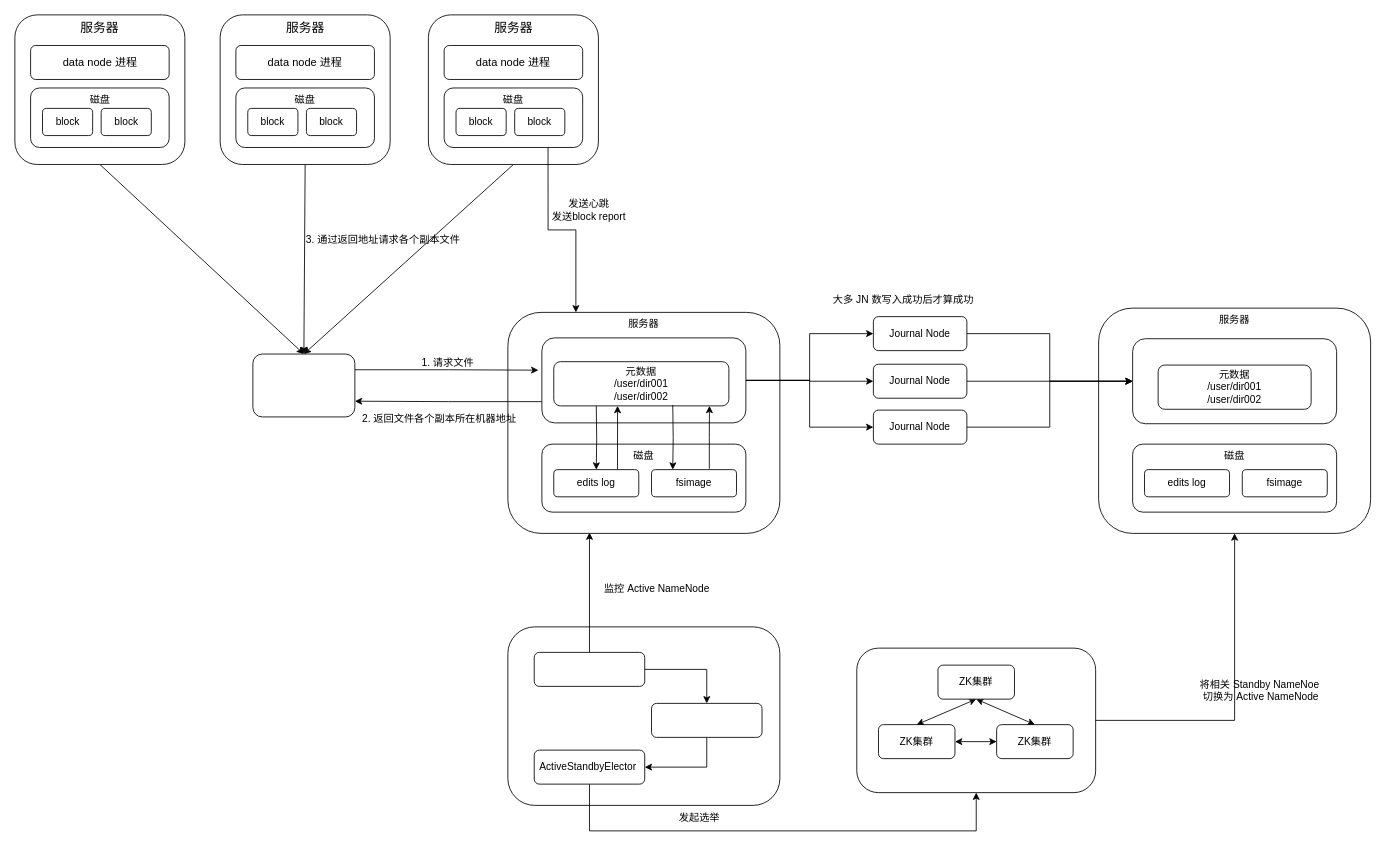
Image size: 1386x853. Some labels were removed from this diagram. Each missing label, with the box of its shape:
Active Namenode: (541, 337, 746, 423)
FailoverController: (651, 703, 762, 737)
HealthMonitor: (533, 652, 645, 686)
Standby Namenode: (1132, 338, 1337, 424)
ZKFC: (507, 626, 780, 805)
客户端: (252, 353, 355, 417)
